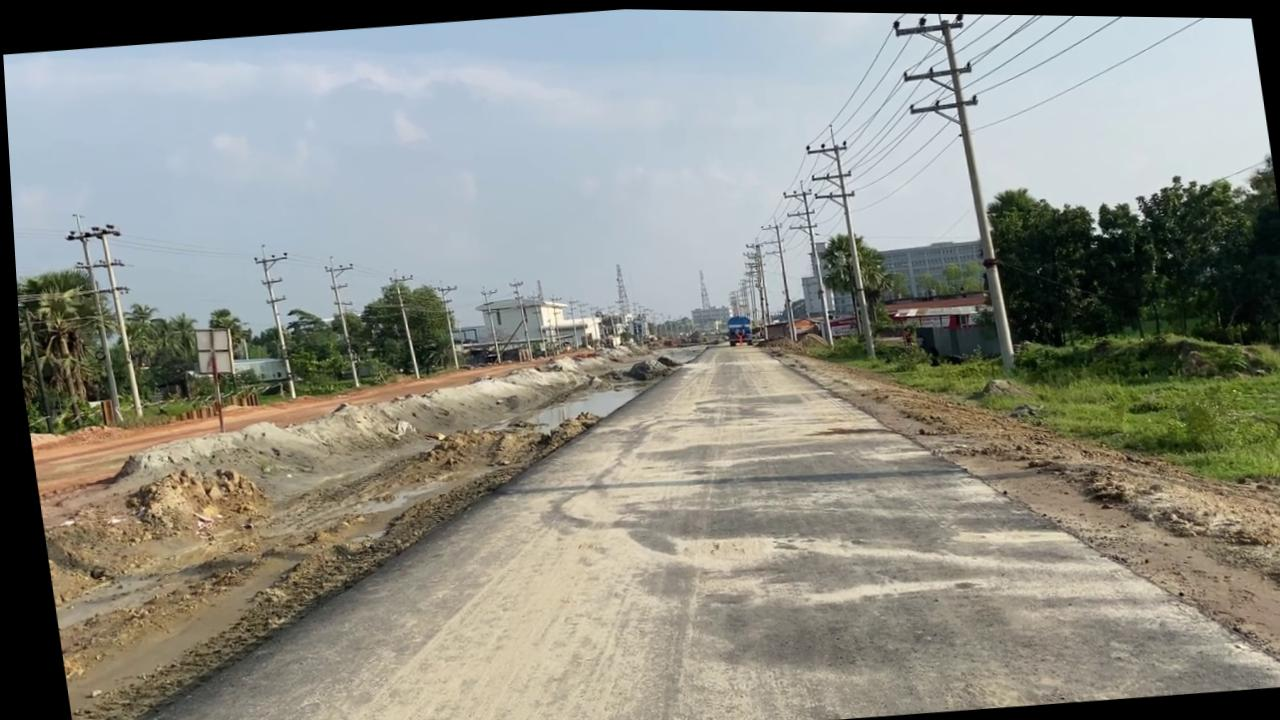Muddy road: (15, 278, 1280, 720)
Pole: (888, 10, 1015, 374), (801, 121, 875, 357), (84, 223, 141, 419), (249, 241, 303, 399), (318, 253, 364, 388), (384, 268, 421, 379)
Traffic-sign: (12, 262, 126, 432), (811, 224, 896, 352)
Tree: (720, 312, 750, 345)
